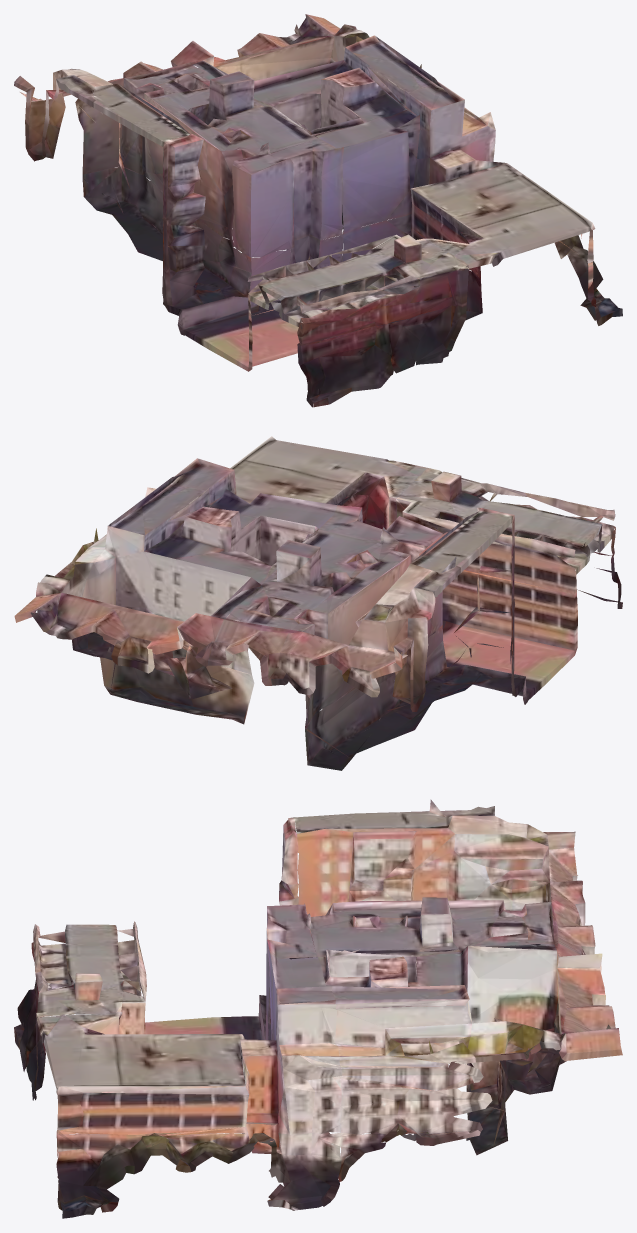
3 views of the same model, one above another, from view 1: azimuth 30°, elevation 25°; view 2: azimuth 150°, elevation 25°; view 3: azimuth 270°, elevation 25° (orthographic). The views are drawn at different scales.
Visible parts, largest first — view 1: Mesh_0; view 2: Mesh_0; view 3: Mesh_0.
Boxes of the visible parts, bbox=[...] form: Mesh_0: bbox=[14, 14, 622, 407]; Mesh_0: bbox=[14, 436, 622, 770]; Mesh_0: bbox=[14, 799, 622, 1218].
Bounding box in the file's own units: 66.58 × 33.32 × 82.51.
1 material, 1 textured.
